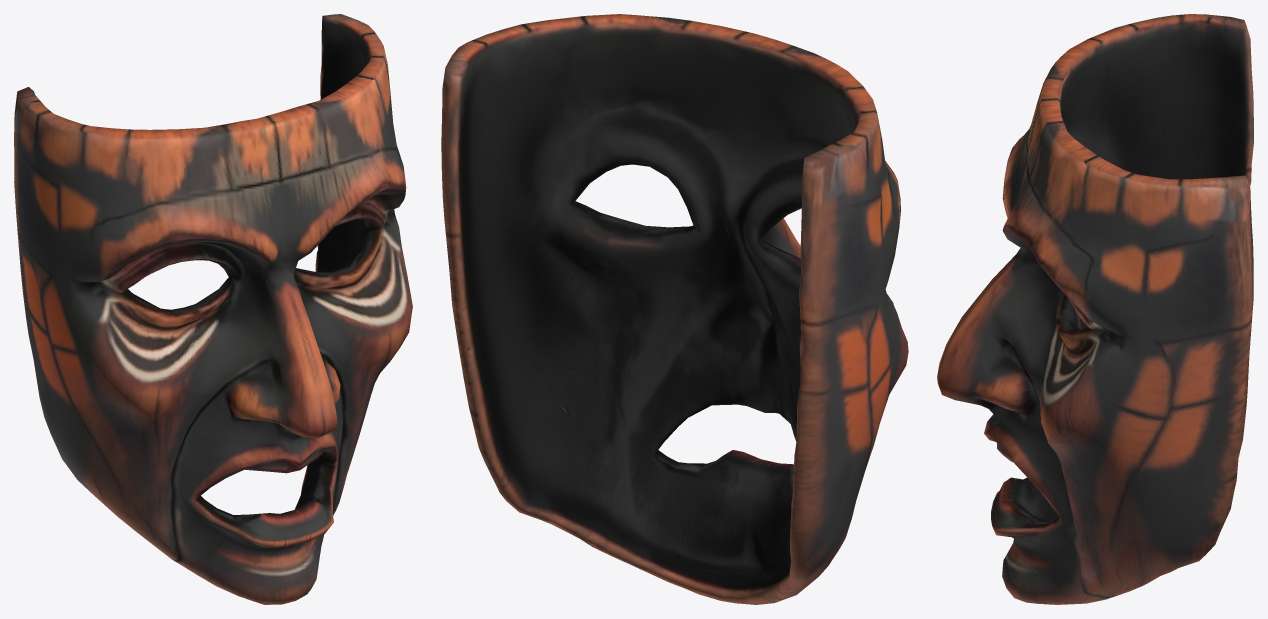
File: Ancient_carved_wooden_1206135222_texture-v1.glb
The picture shows the model from 3 angles, left to right: view 1: azimuth 30°, elevation 25°; view 2: azimuth 150°, elevation 25°; view 3: azimuth 270°, elevation 25°; orthographic projection. The views are drawn at different scales.
Visible parts, largest first — view 1: Mesh_0; view 2: Mesh_0; view 3: Mesh_0.
Boxes of the visible parts, x1,y1,x2,y2 form: Mesh_0: (14, 14, 412, 604); Mesh_0: (441, 14, 908, 604); Mesh_0: (937, 14, 1253, 604).
Size of the model in its own units: 0.1891 by 0.25 by 0.1446.
Materials: 1 (1 with a texture image).
